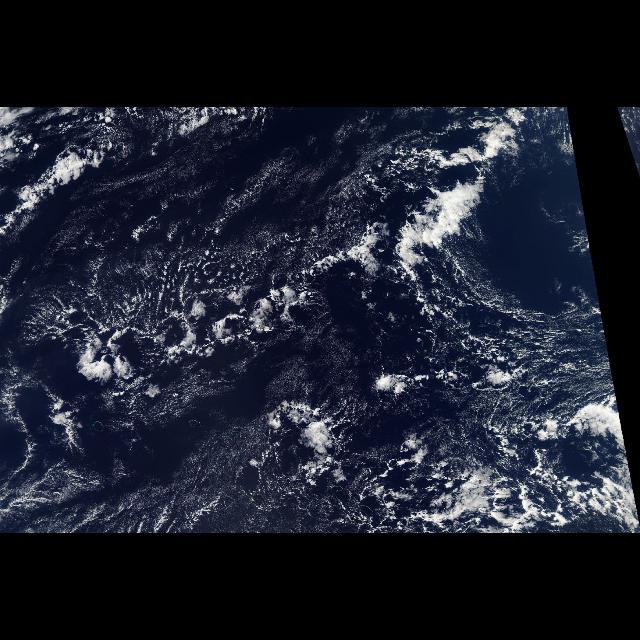Fish: (3, 137, 565, 396)
Gravel: (1, 116, 638, 532), (618, 117, 640, 177)
Sugar: (16, 425, 360, 531)
